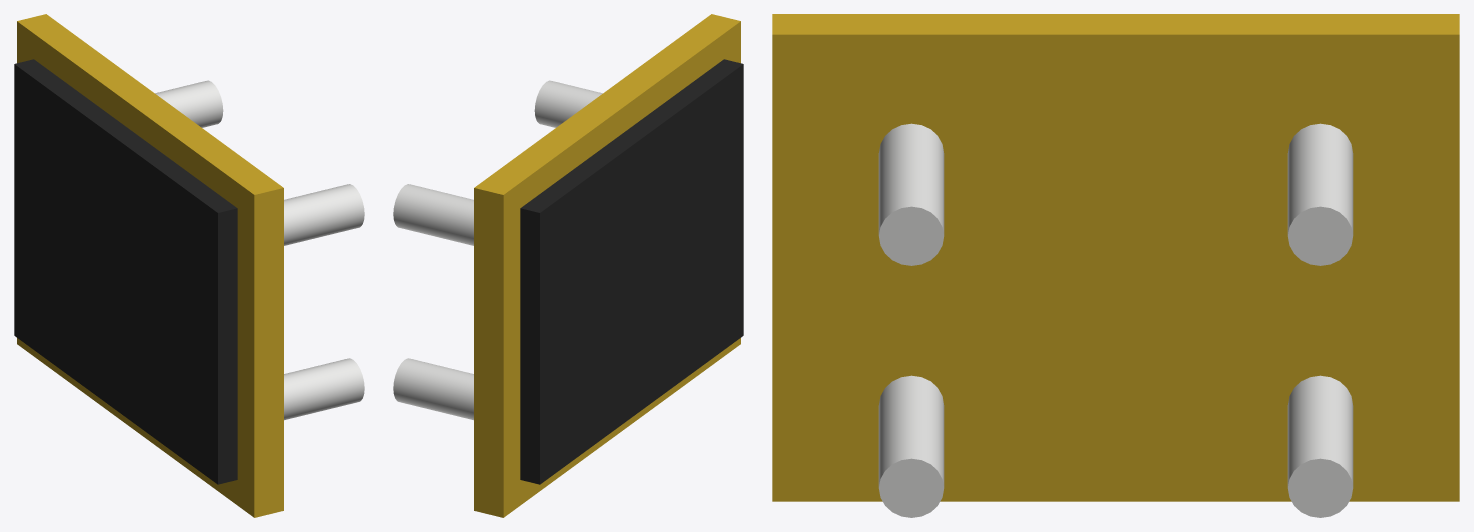
File: log_kicker_bumper.glb
The picture shows the model from 3 angles, left to right: view 1: azimuth 30°, elevation 25°; view 2: azimuth 150°, elevation 25°; view 3: azimuth 270°, elevation 25°; orthographic projection. The views are drawn at different scales.
Parts seen in each view (by area): view 1: LK_BumperMesh; view 2: LK_BumperMesh; view 3: LK_BumperMesh.
Part boxes in pixels (bbox=[...]): LK_BumperMesh: bbox=[14, 14, 364, 517]; LK_BumperMesh: bbox=[393, 14, 743, 517]; LK_BumperMesh: bbox=[772, 14, 1459, 517].
Size of the model in its own units: 0.34 by 0.63 by 0.84.
